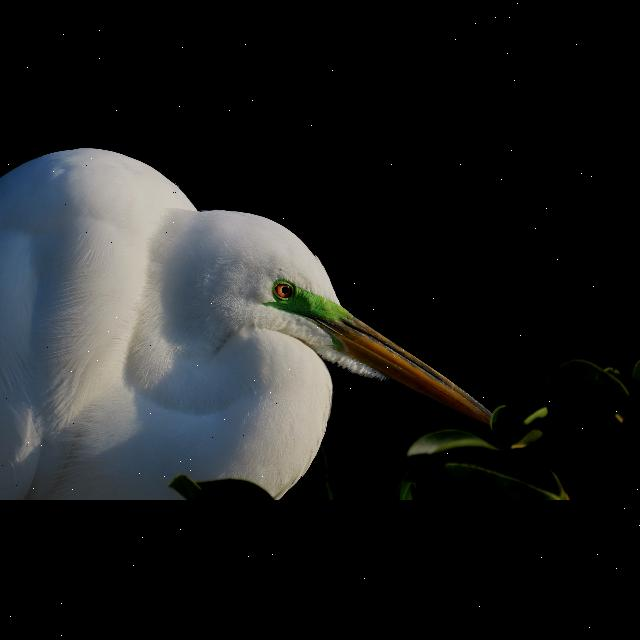egret: (1, 142, 510, 500)
